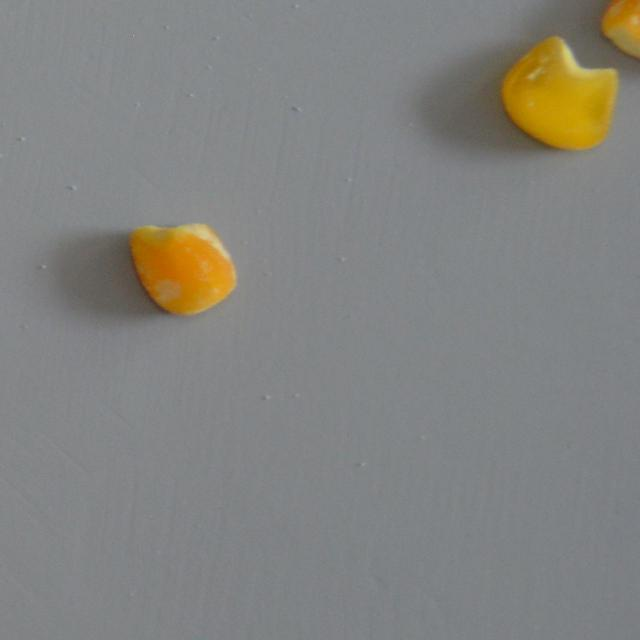pelicula: (498, 33, 619, 152), (128, 224, 238, 318)
